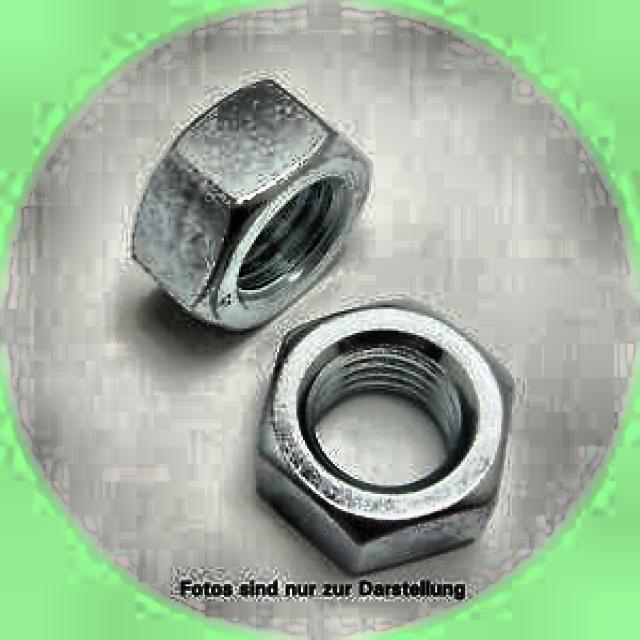Nut Detection - v1 Nut Dataset: (250, 294, 565, 578), (117, 67, 386, 330)
